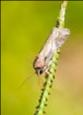army worm adult: (22, 24, 71, 88)
